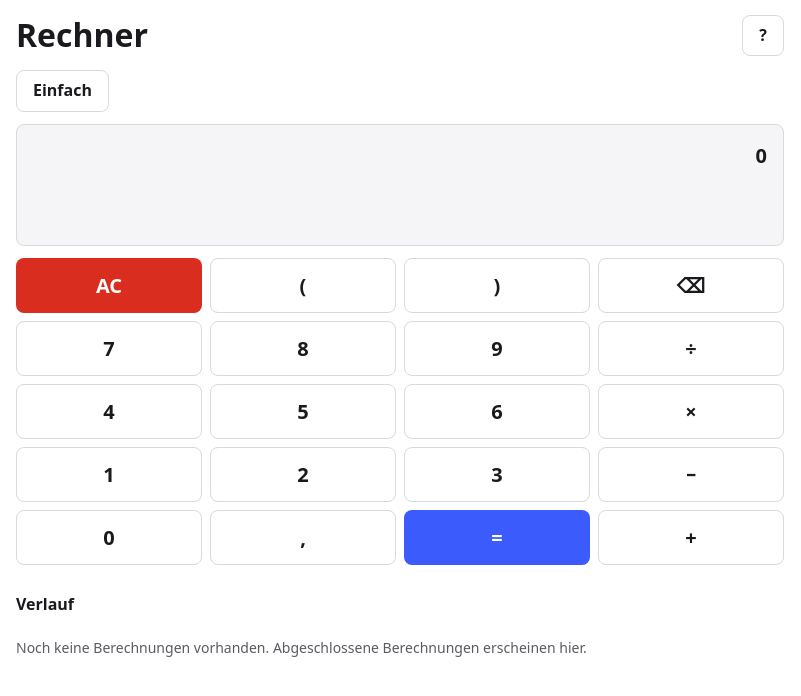
CalculatorPage › startet nach "=" eine neue Eingabe ohne das Ergebnis zu verstümmeln
Click the button "2" at {"x": 303, "y": 474}, box [210,447,396,502]
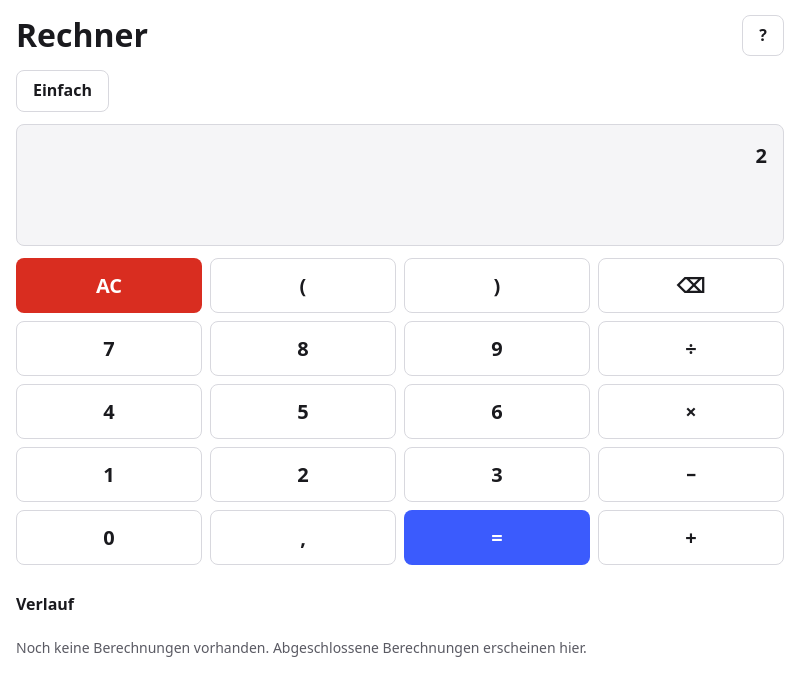
Click the button named "Plus" at {"x": 691, "y": 537}, box [598,510,784,565]
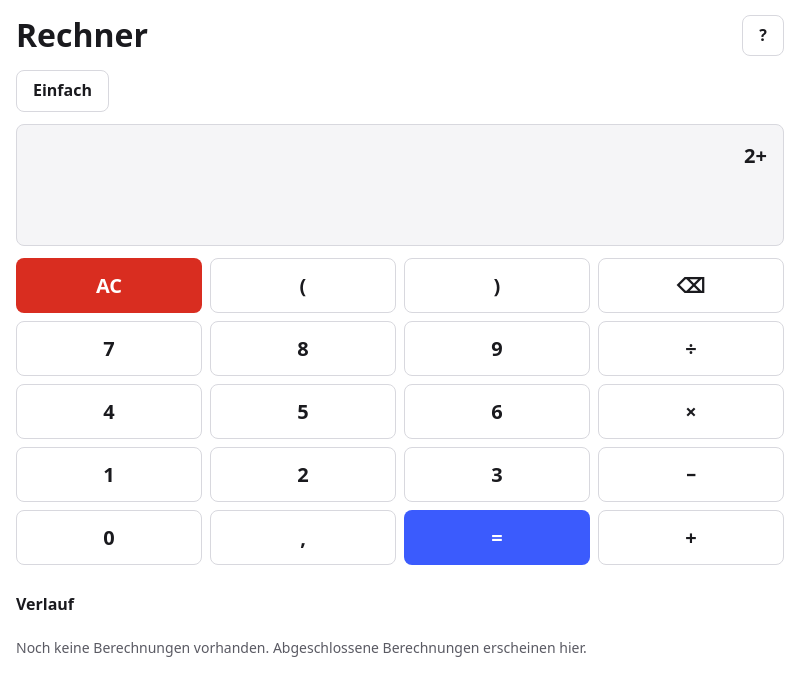
Click the button "3" at {"x": 497, "y": 474}, box [404,447,590,502]
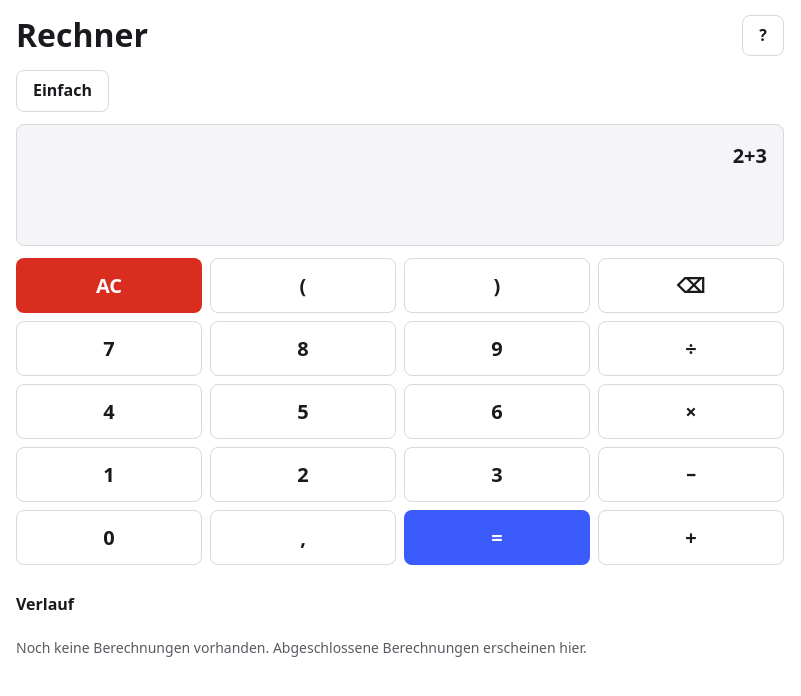
Click the button "=" at {"x": 497, "y": 537}, box [404,510,590,565]
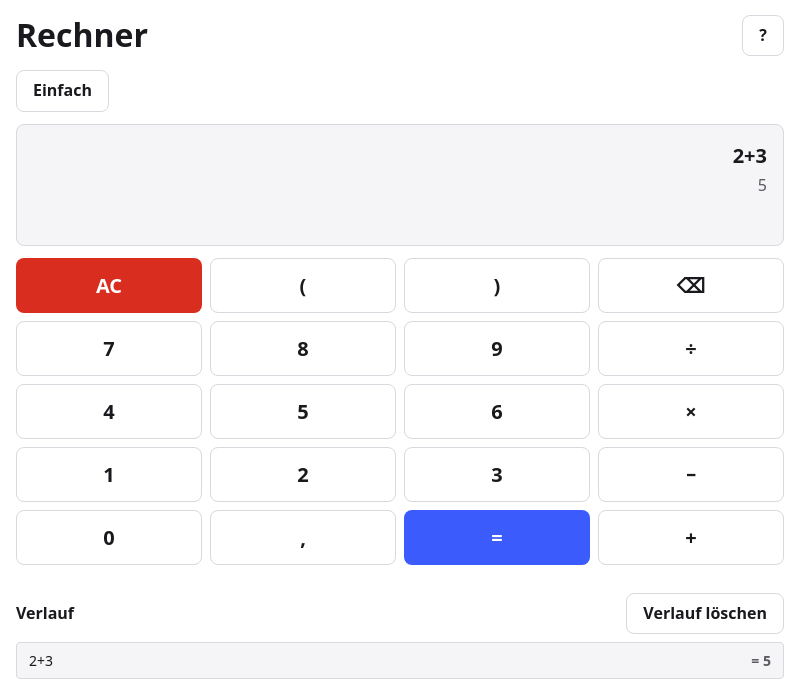
Now the message named "Ergebnis" reads "5", box [758,174,767,196]
Click the button "7" at {"x": 109, "y": 348}, box [16,321,202,376]
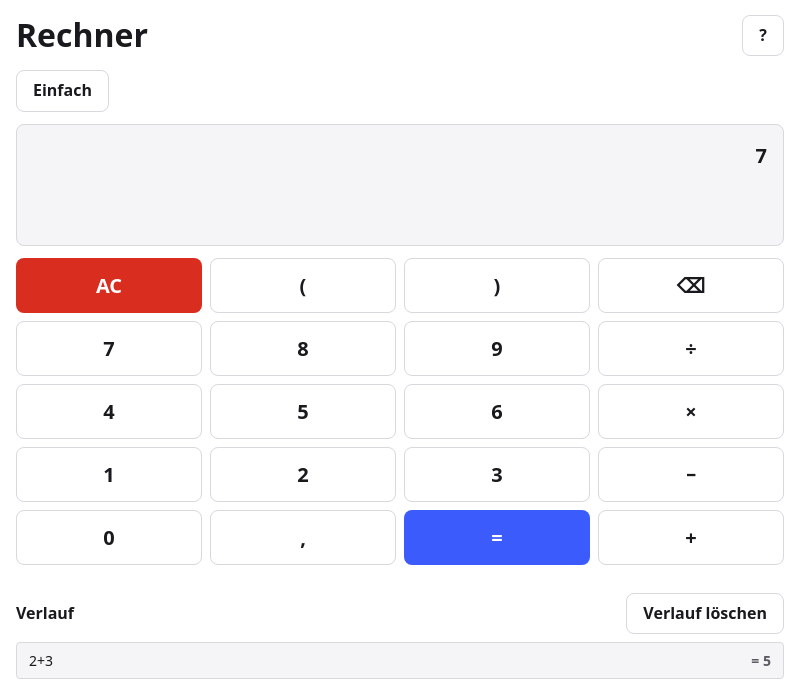
Now the text named "Ausdruck" reads "7", box [756,142,767,169]
